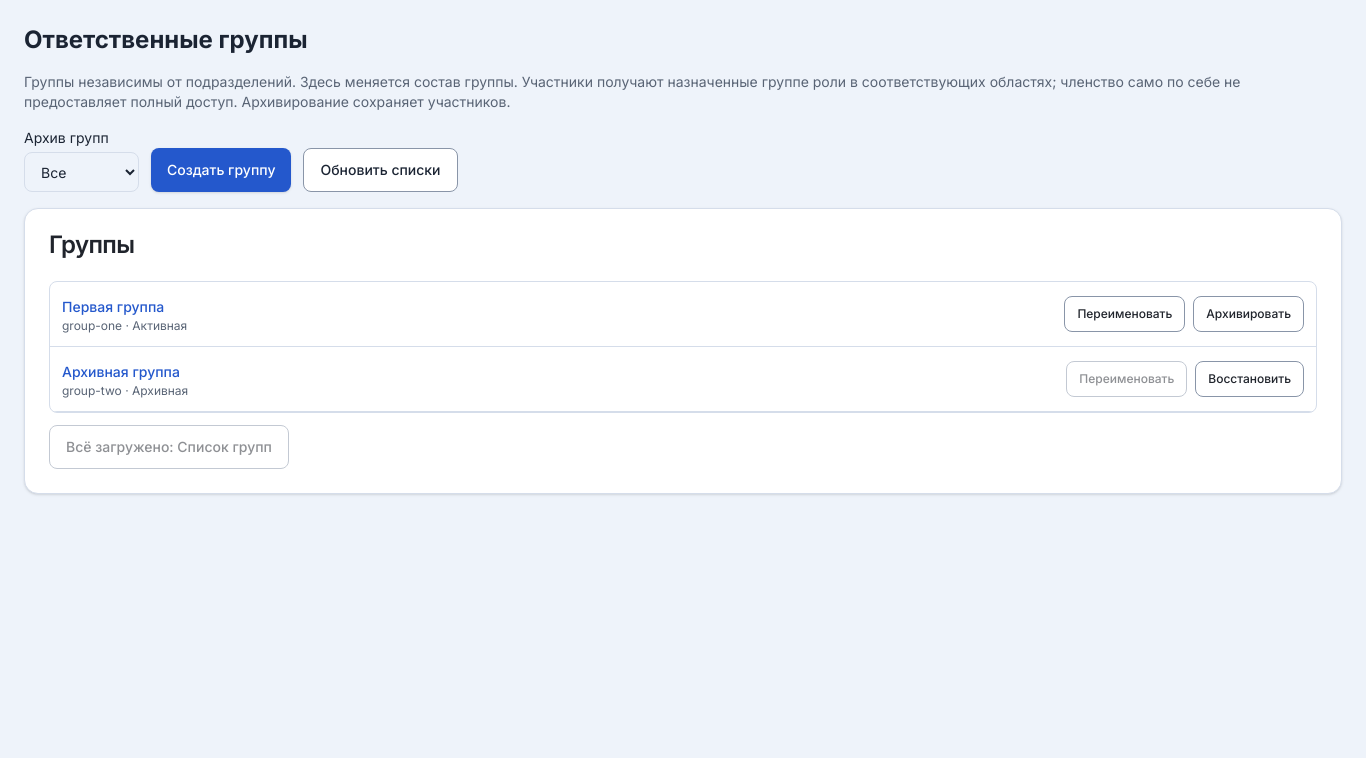
Test: groups, members and people reads › treats stale membership cursors409 as an explicit refresh instead of mixing pages
This screenshot has width=1366, height=758.
Click the button "Первая группа" at [113, 307], box [62,297,164,317]
(page scrolled)
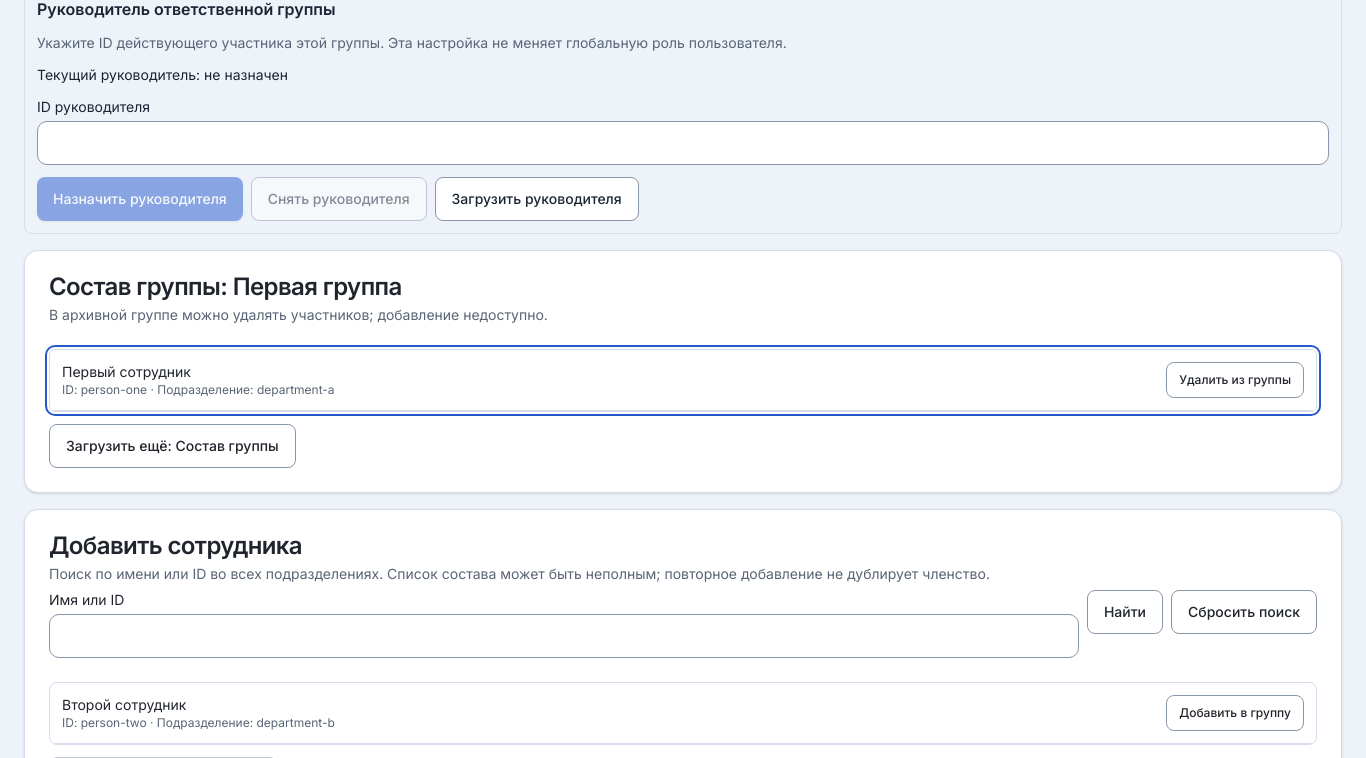
Expected: the button "Удалить из группы" is enabled, [1166,362,1304,398]
Expected: the button "Загрузить ещё: Состав группы" is enabled
Click the button "Загрузить ещё: Состав группы" at [172, 446], box [49,424,296,468]
(page scrolled)
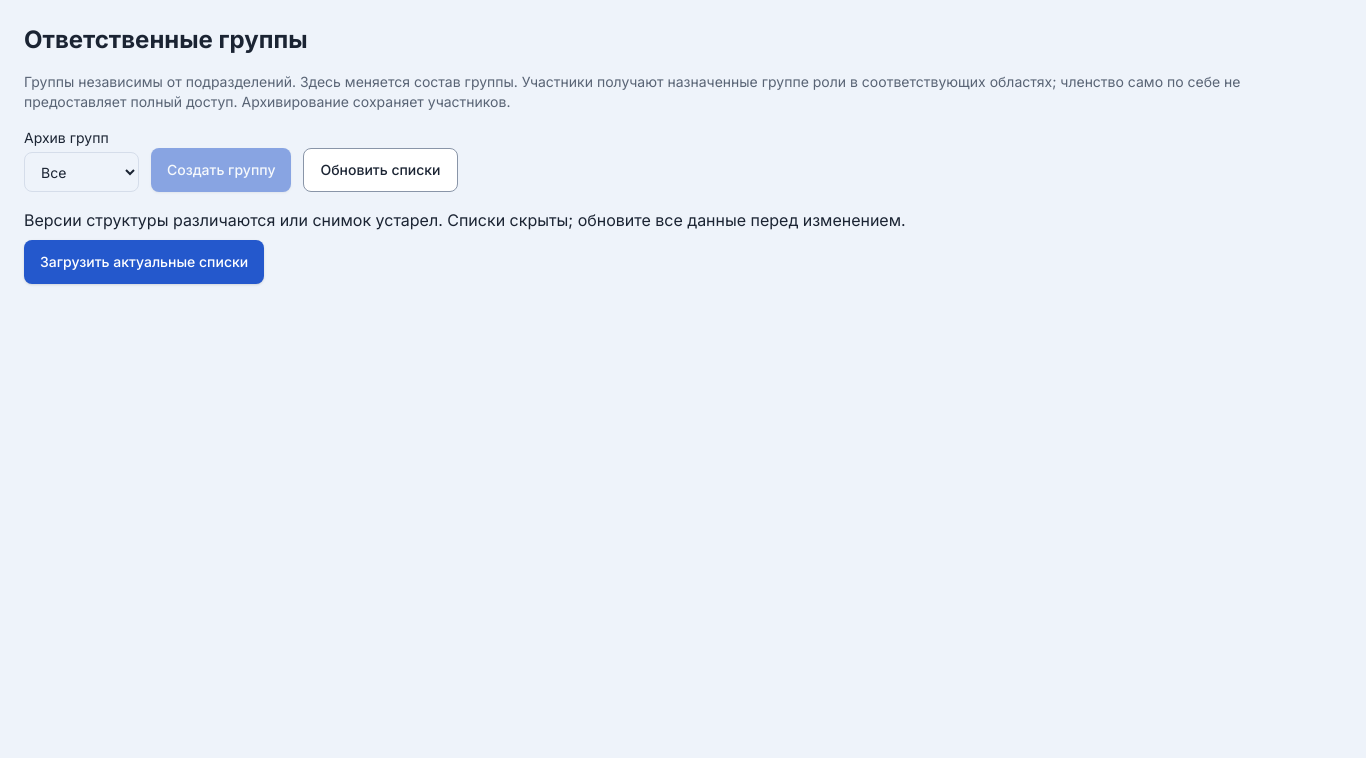
Expected: the text "Версии структуры различаются" is shown, [24,210,906,230]
Expected: the text "Первый сотрудник" is gone
Expected: the button "Удалить из группы" is gone
